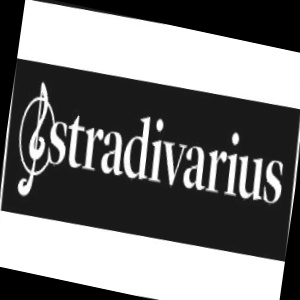stradivarius: (287, 89, 300, 164)
